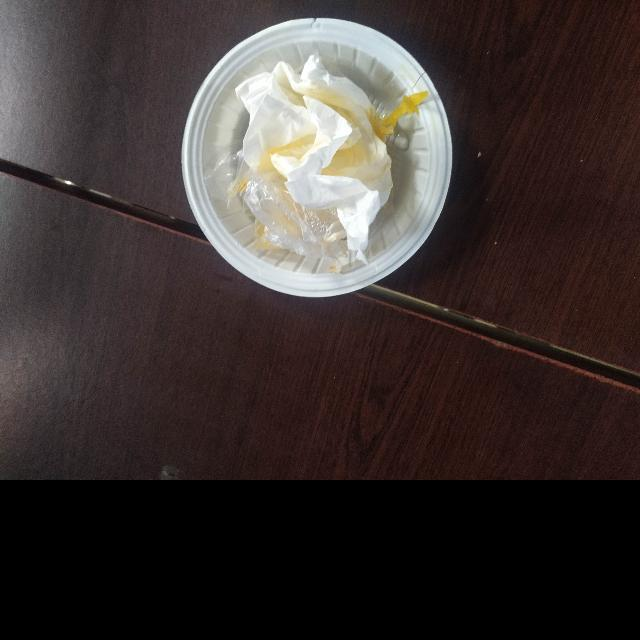kitchen paper: (226, 74, 374, 236)
